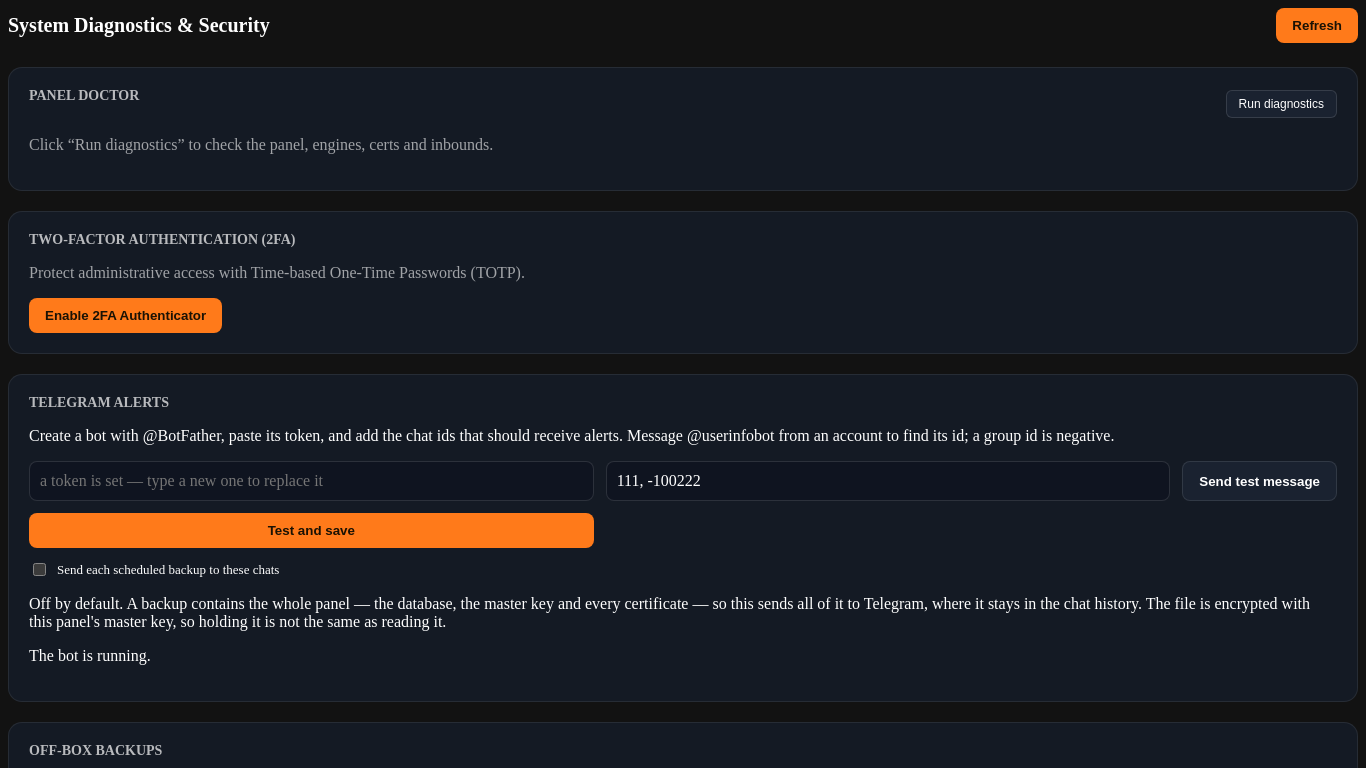
Test: SystemHealthView Telegram card › shows the remediation when Telegram refuses
Click the button with test id "tg-test": click(1260, 481) [1182,461,1337,501]
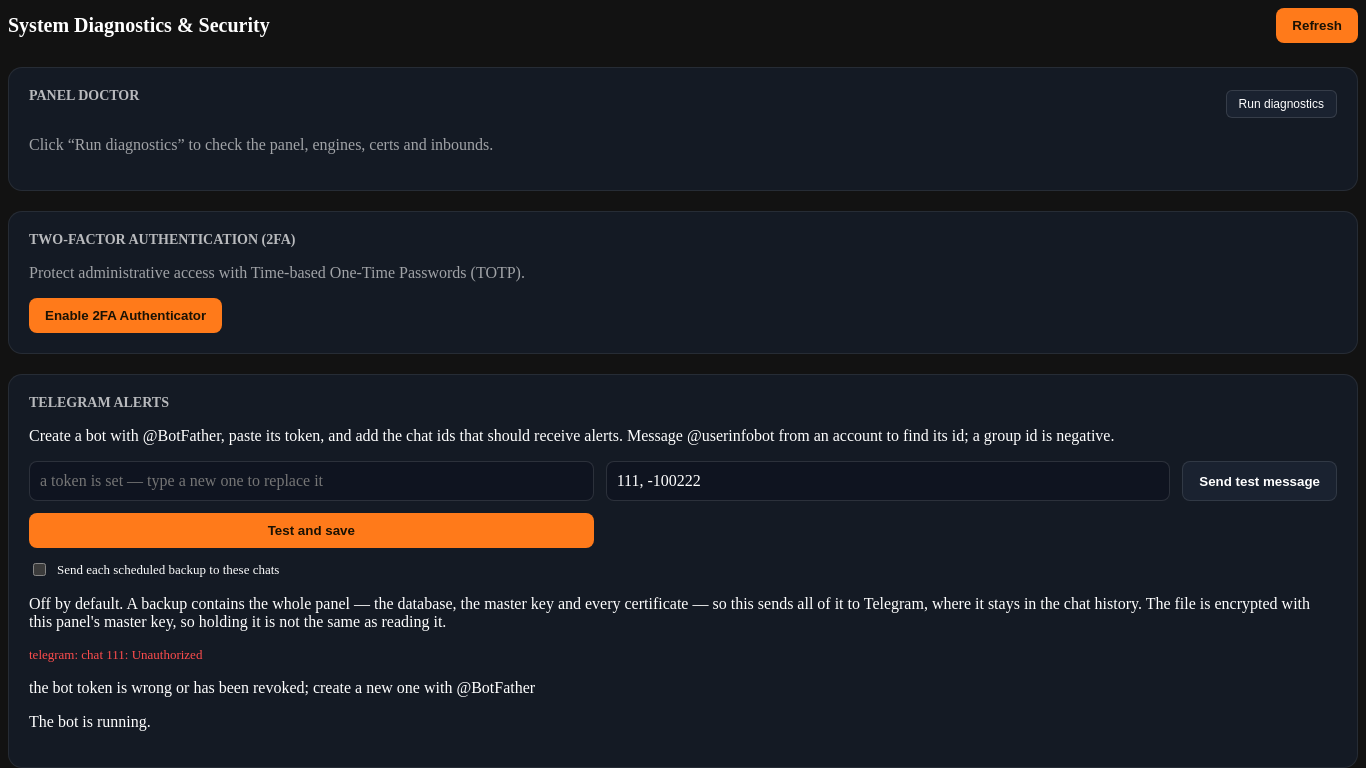
Check: the text with test id "tg-error" shows "Unauthorized", box [29,647,202,662]
Check: the text with test id "tg-remedy" shows "BotFather", box [29,679,535,696]
